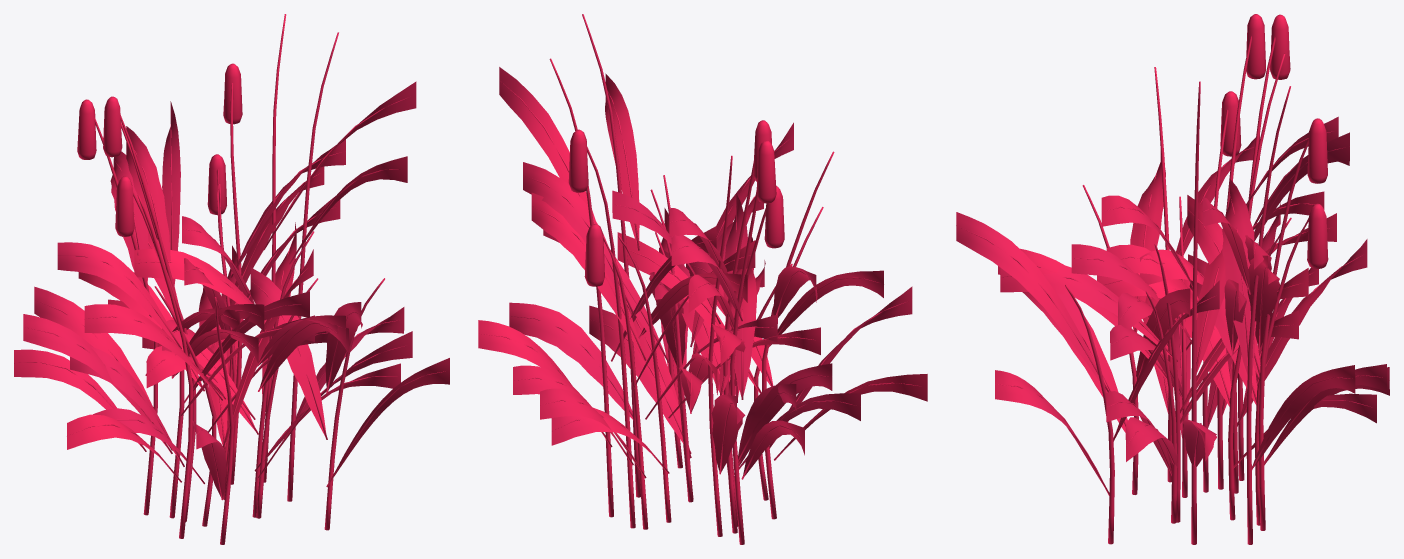
Rendered from SM_LW_Reeds.fbx.
3 views of the same model, side by side, from view 1: azimuth 30°, elevation 25°; view 2: azimuth 150°, elevation 25°; view 3: azimuth 270°, elevation 25° (orthographic). The views are drawn at different scales.
Visible parts, largest first — view 1: SM_LW_Reeds; view 2: SM_LW_Reeds; view 3: SM_LW_Reeds.
Boxes of the visible parts, bbox=[...] form: SM_LW_Reeds: bbox=[14, 14, 449, 544]; SM_LW_Reeds: bbox=[478, 14, 927, 544]; SM_LW_Reeds: bbox=[956, 14, 1389, 544].
Size of the model in its own units: 108 by 118 by 135.
